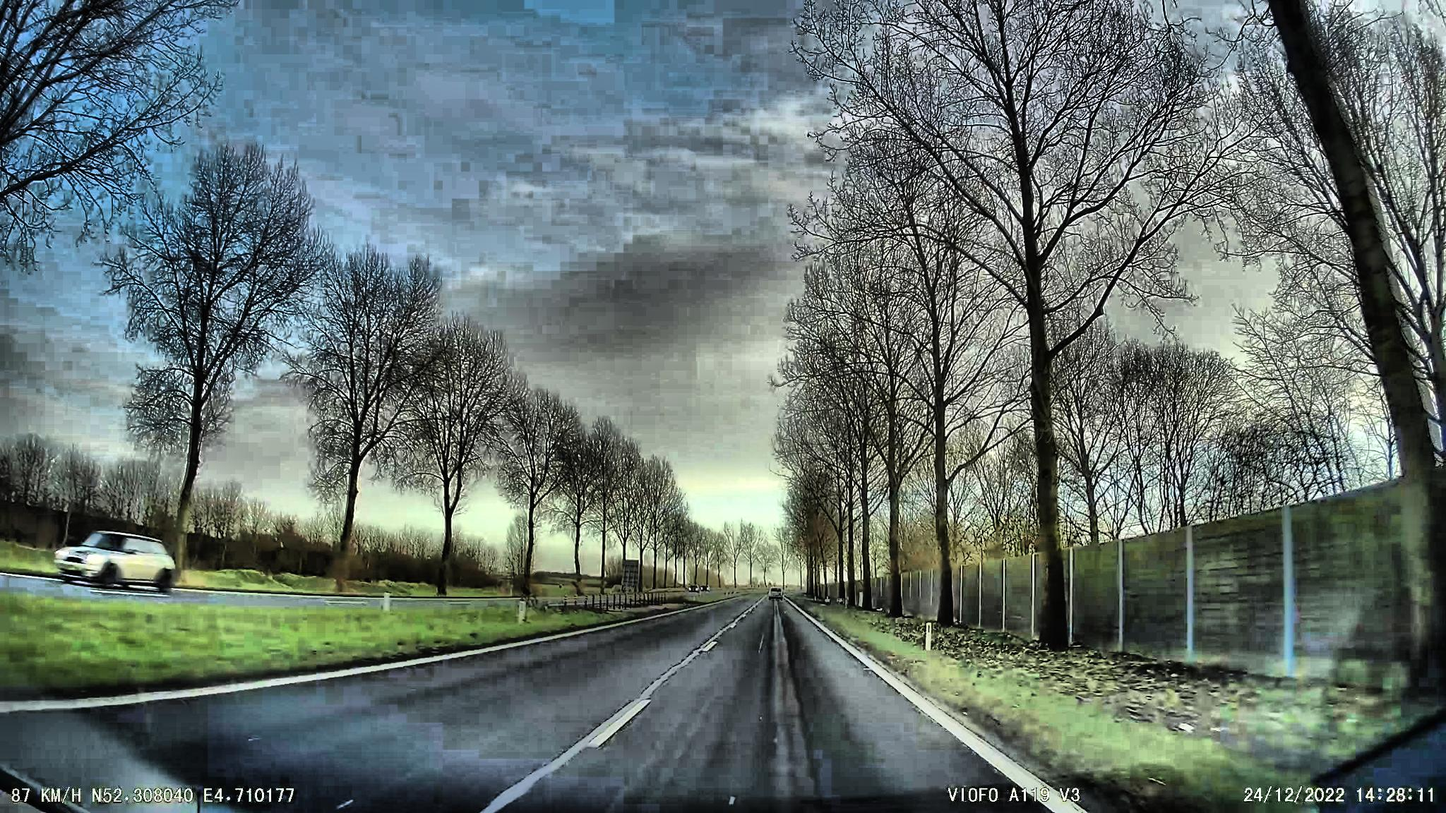Roads: (0, 601, 1049, 813)
